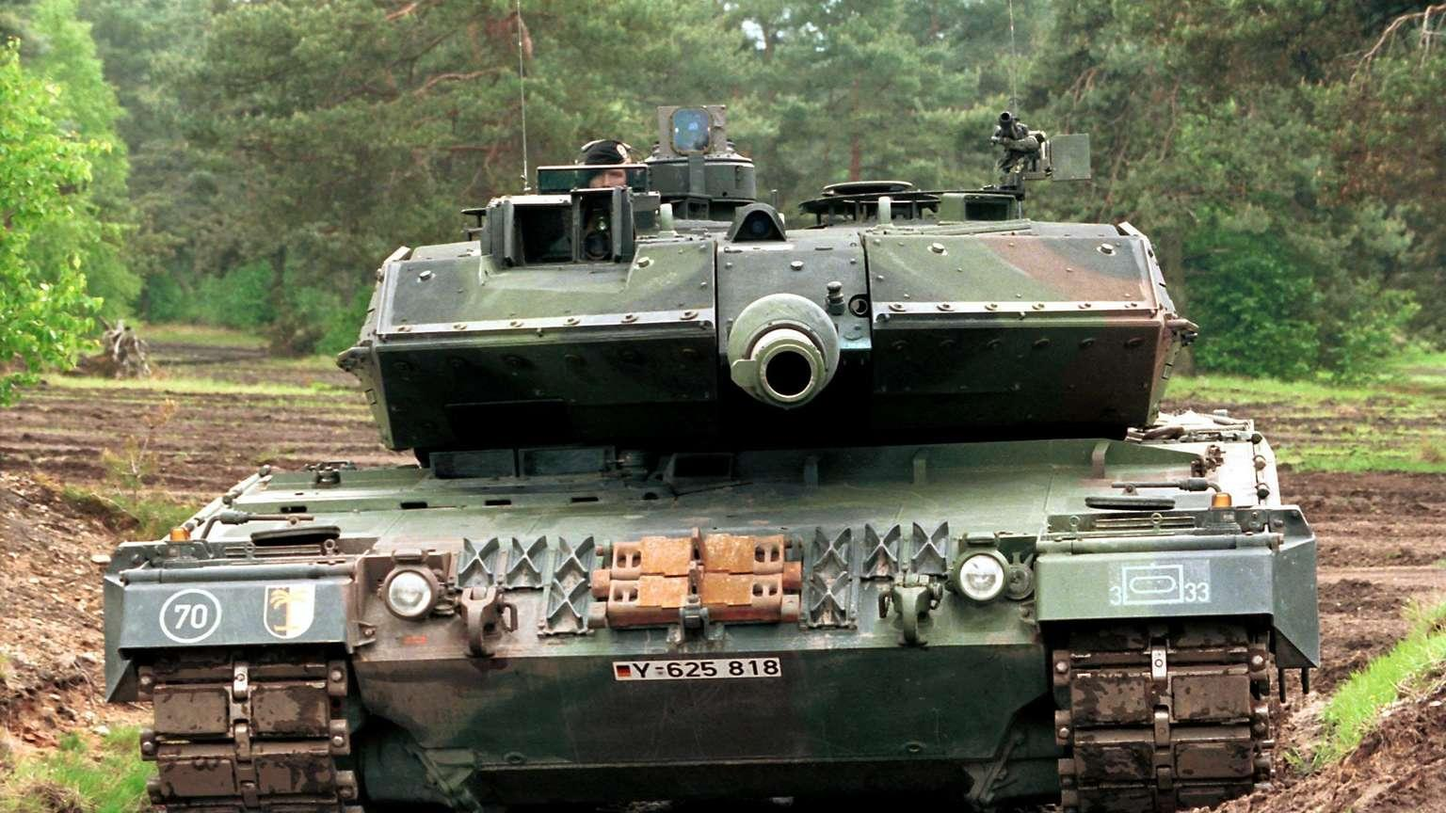tank: (101, 145, 1329, 807)
